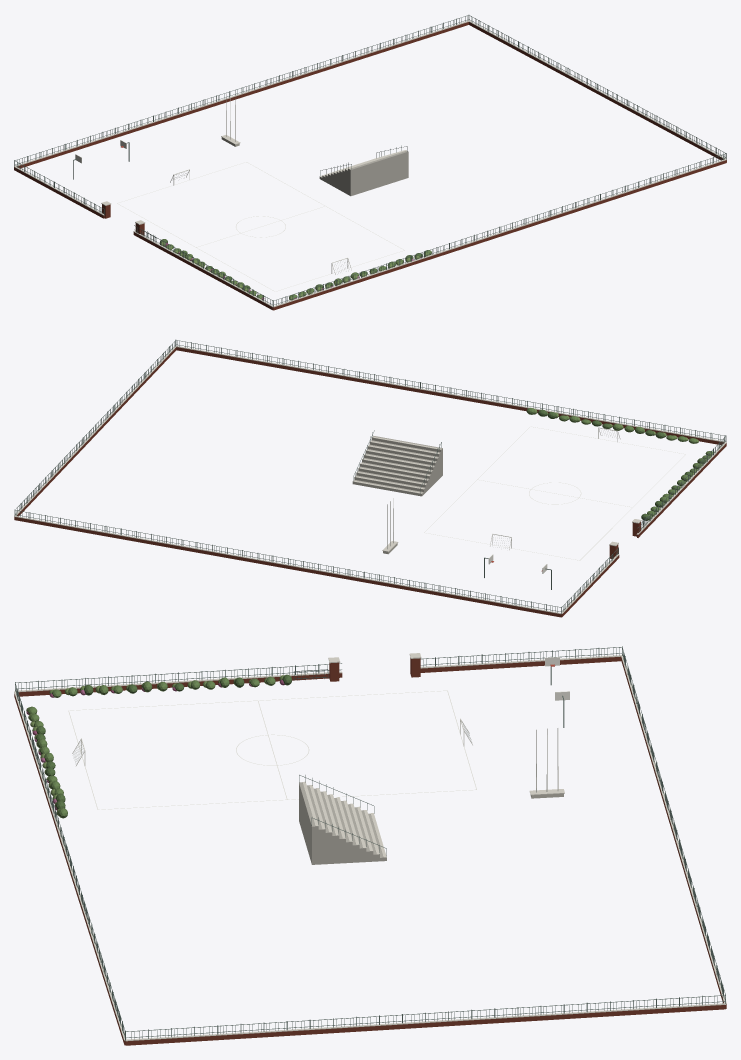
3 views of the same model, one above another, from view 1: azimuth 30°, elevation 25°; view 2: azimuth 150°, elevation 25°; view 3: azimuth 270°, elevation 25° (orthographic). The views are drawn at different scales.
Parts seen in each view (by area): view 1: prop_boundary-fence, prop_yard-stand, prop_flowerbeds, prop_field-lines; view 2: prop_boundary-fence, prop_yard-stand, prop_flowerbeds, prop_field-lines; view 3: prop_boundary-fence, prop_yard-stand, prop_flowerbeds, prop_field-lines, prop_west-gate.
Boxes of the visible parts, x1,y1,x2,y2 form: prop_boundary-fence: [14, 15, 726, 310]; prop_yard-stand: [319, 145, 408, 196]; prop_flowerbeds: [159, 239, 431, 300]; prop_field-lines: [117, 162, 404, 291]; prop_boundary-fence: [14, 339, 726, 617]; prop_yard-stand: [352, 430, 442, 496]; prop_flowerbeds: [526, 408, 716, 520]; prop_field-lines: [424, 426, 685, 560]; prop_boundary-fence: [14, 646, 726, 1045]; prop_yard-stand: [299, 775, 386, 864]; prop_flowerbeds: [26, 674, 292, 818]; prop_field-lines: [68, 690, 476, 809]; prop_west-gate: [294, 653, 421, 681].
Size of the model in its own units: 100 by 8.2 by 78.42.
